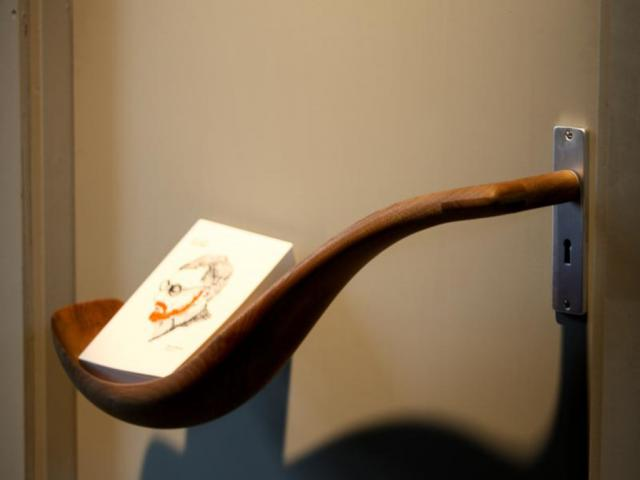Door-handle: (49, 122, 590, 431)
